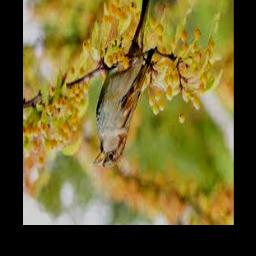Sparrow: (94, 0, 154, 169)
